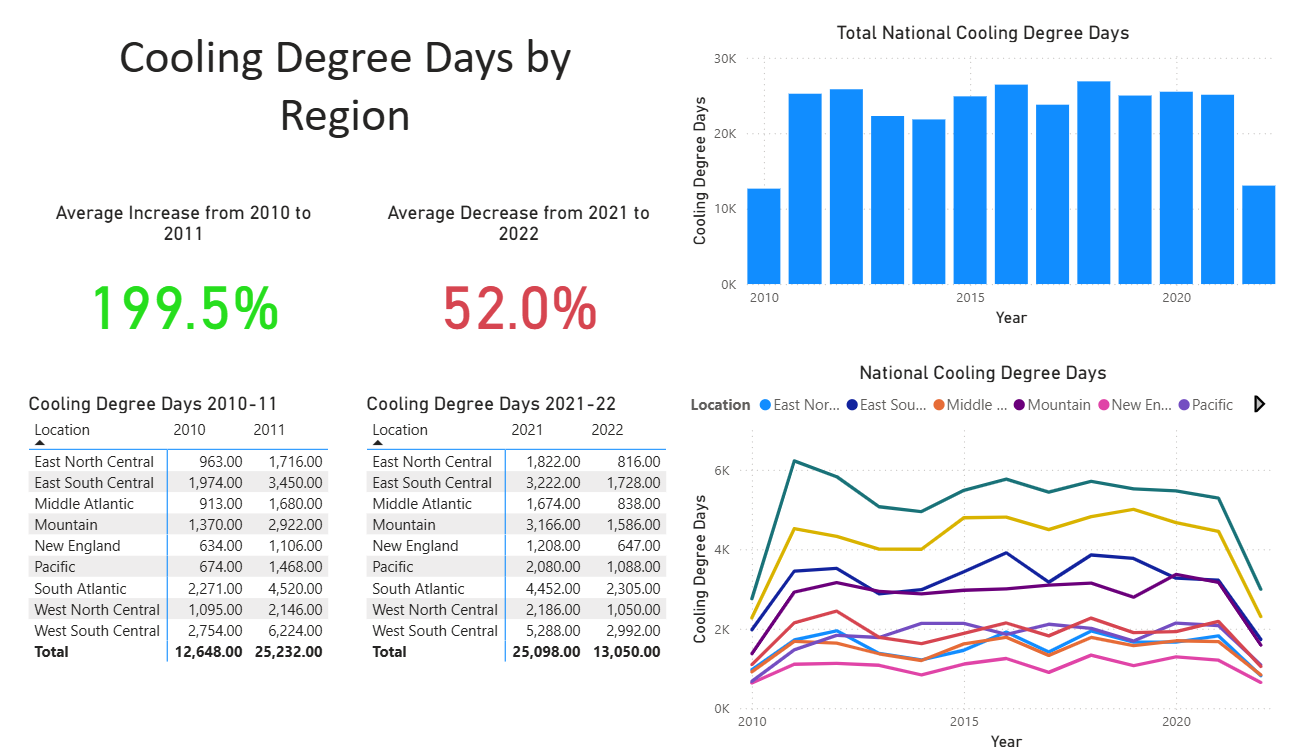

The page's visual inventory and layout, read from the dashboard file:
{"tool":"powerbi","page":{"name":"Cooling Deg Days","canvas":[1280,720],"ordinal":2},"visuals":[{"type":"columnChart","title":"Total National Cooling Degree Days","fields":{"Category":["cooling_days_consistent.YEAR"],"Y":["Sum(cooling_days_consistent.VALUE)"]},"box":[680.9,59.3,535,279.1],"z":0},{"type":"lineChart","title":"National Cooling Degree Days","fields":{"Y":["Sum(cooling_days_consistent.VALUE)"],"Category":["cooling_days_consistent.YEAR"],"Series":["cooling_days_consistent.Location"]},"box":[680.9,364.7,535,355],"z":1000},{"type":"textbox","box":[120.3,59.3,509.9,161.6],"z":2000},{"type":"card","title":"Annual Average 2010-22","fields":{"Values":["cooling_days_consistent.yearly_average_cool"]},"box":[212.8,199.3,291.8,123.9],"z":3000},{"type":"card","title":"Lowest Year","fields":{"Values":["cooling_days_consistent.min_year_value_cool"]},"box":[89.5,338.5,269.4,112.8],"z":4000},{"type":"card","title":"Highest Year","fields":{"Values":["cooling_days_consistent.max_year_value_cool"]},"box":[358.9,338.5,269.4,112.8],"z":5000},{"type":"card","title":"Lowest Decrease from the Annual Average","fields":{"Values":["cooling_days_consistent.min_diff_percent_cool"]},"box":[89.5,499.9,268.4,155.6],"z":6000},{"type":"card","title":"Highest Increase from the Annual Average","fields":{"Values":["cooling_days_consistent.max_diff_percent_cool"]},"box":[358.9,499.9,269.4,155.6],"z":7000}]}

Visuals, with their boxes on the page's 1280x720 design canvas (x1, y1, x2, y2). These are canvas units, not pixel positions in the 1289x753 screenshot, which may show the page scaled, cropped or inside an application window:
"Total National Cooling Degree Days" columnChart: BBox(681, 59, 1216, 338)
"National Cooling Degree Days" lineChart: BBox(681, 365, 1216, 720)
textbox: BBox(120, 59, 630, 221)
"Annual Average 2010-22" card: BBox(213, 199, 505, 323)
"Lowest Year" card: BBox(90, 338, 359, 451)
"Highest Year" card: BBox(359, 338, 628, 451)
"Lowest Decrease from the Annual Average" card: BBox(90, 500, 358, 656)
"Highest Increase from the Annual Average" card: BBox(359, 500, 628, 656)
